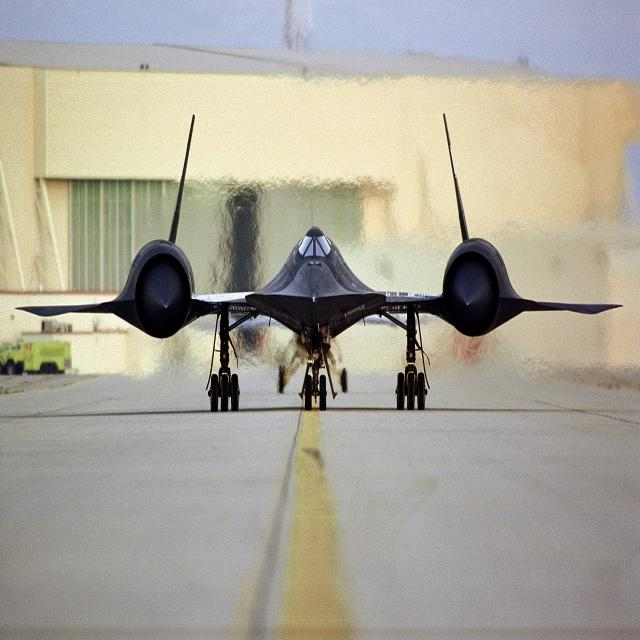MIL_Plane: (14, 110, 625, 411)
